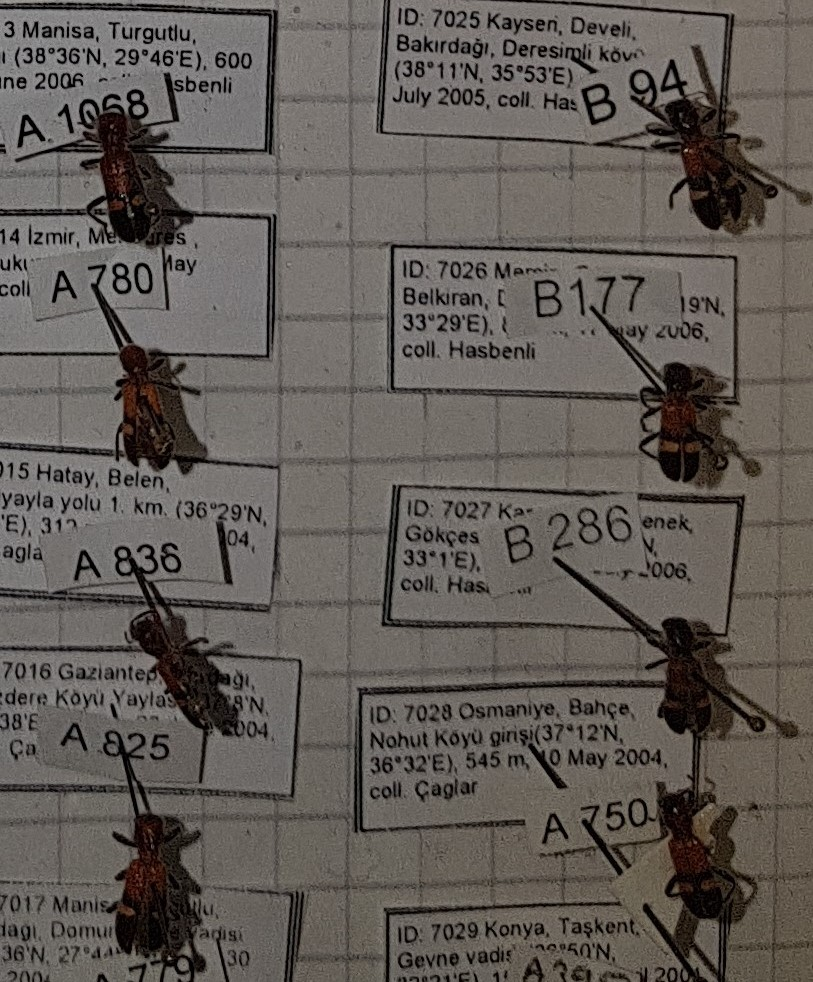opilo_taeniatus: (80, 106, 188, 263), (648, 86, 758, 240), (106, 807, 192, 967), (107, 342, 194, 485), (656, 785, 741, 929), (634, 357, 719, 486), (648, 601, 721, 742)
